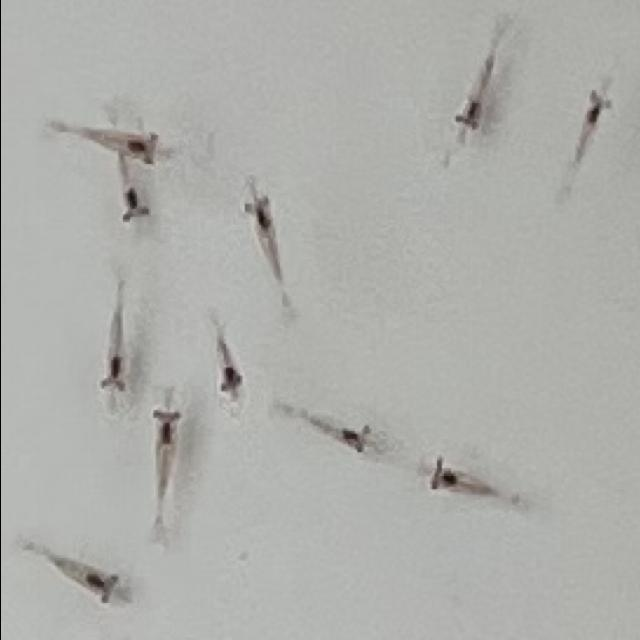shrimp-seed: (81, 564, 131, 610), (146, 393, 183, 451), (95, 350, 128, 410), (448, 98, 486, 146), (240, 182, 274, 230), (122, 128, 160, 166), (118, 187, 150, 230), (214, 364, 248, 404), (428, 454, 460, 494), (577, 88, 610, 126), (340, 422, 372, 454)
